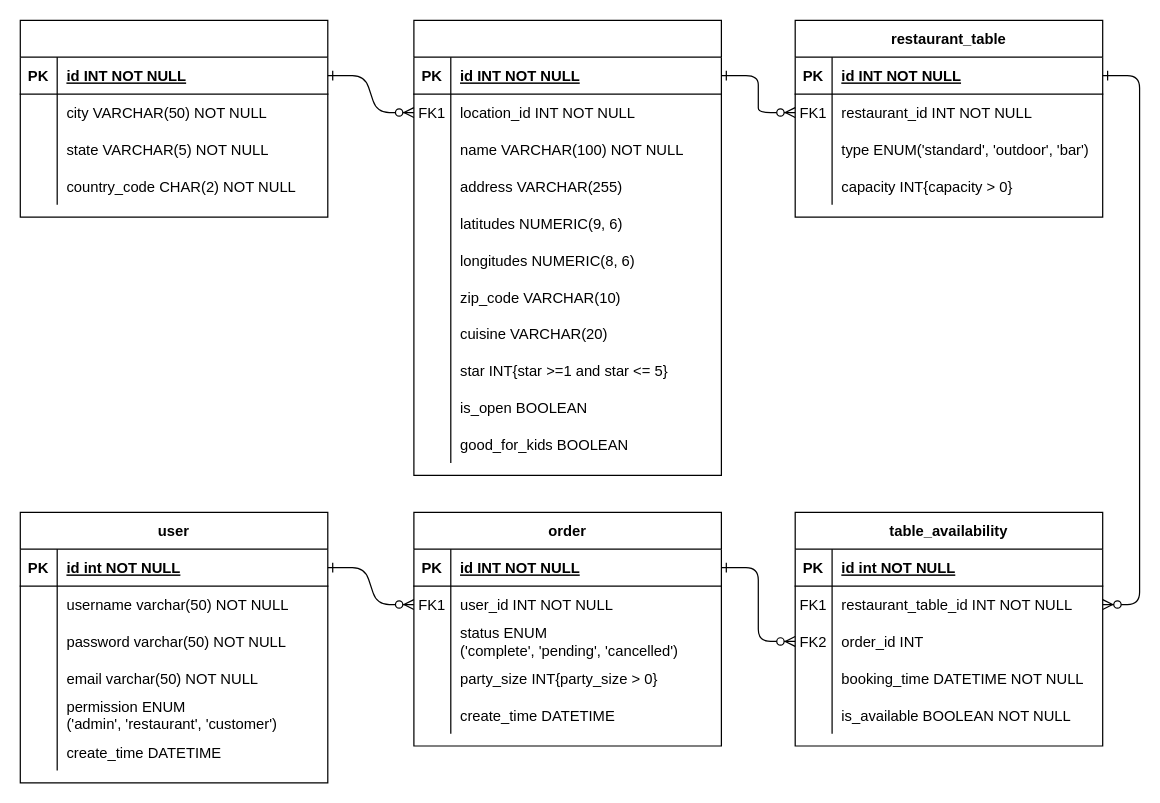
Some shapes in this 1160 by 803 pixel diagram are drawn without their labels. Each missing label, with the box of its shape:
location: (19, 19, 328, 217)
restaurant: (413, 19, 721, 475)
